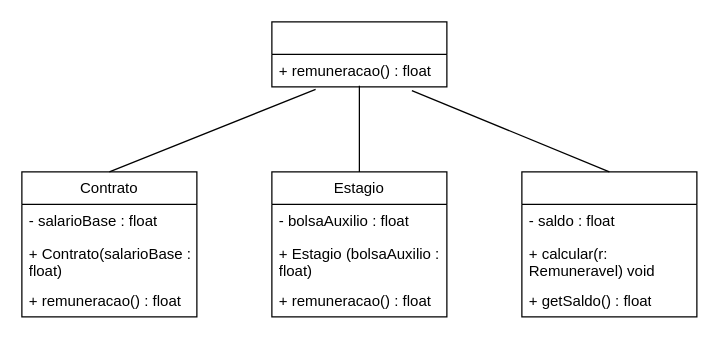
Some shapes in this 719 by 343 pixel diagram are drawn without their labels. The shapes that lost their labels are listed below. From the top down, each one's box as (x1, y1, x2, y2) in pixels, then its label:
(271, 21, 447, 87): Remuneravel
(521, 171, 697, 317): Folha
